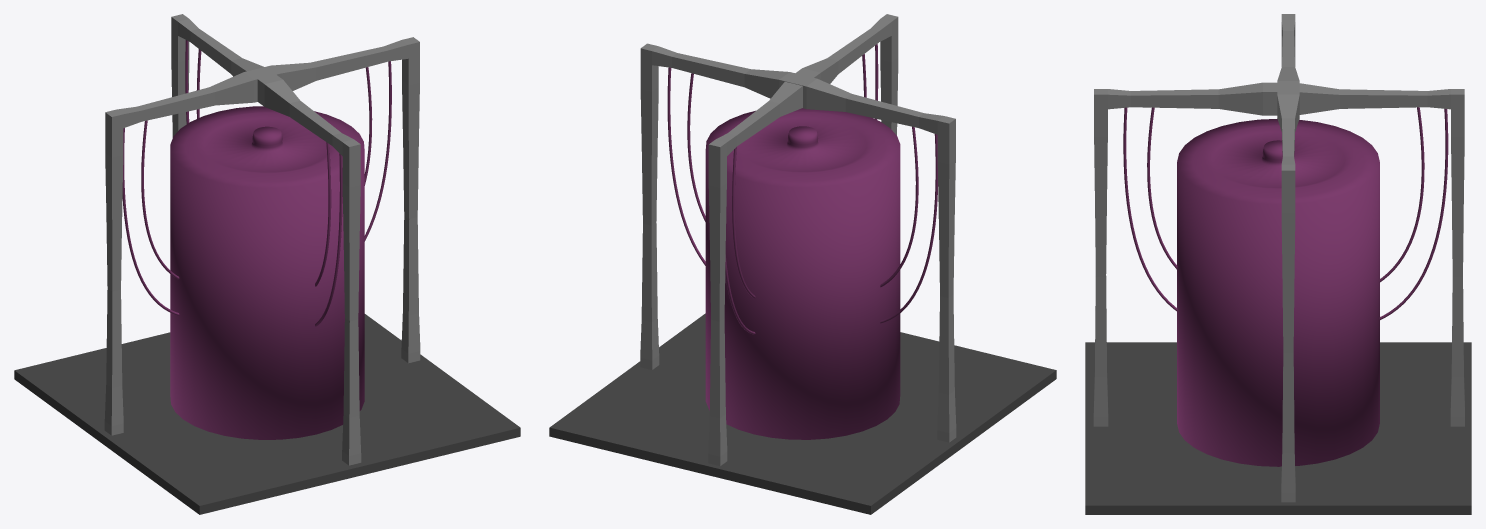
Rendered from PowerStorageLevel1.fbx.
The picture shows the model from 3 angles, left to right: view 1: azimuth 30°, elevation 25°; view 2: azimuth 150°, elevation 25°; view 3: azimuth 270°, elevation 25°; orthographic projection. The views are drawn at different scales.
Visible parts, largest first — view 1: Cylinder, Cube.001, Cube, NurbsPath.002, NurbsPath.005, NurbsPath.006, NurbsPath.007; view 2: Cylinder, Cube.001, Cube, NurbsPath.005, NurbsPath.006, NurbsPath.007; view 3: Cylinder, Cube.001, Cube, NurbsPath.001, NurbsPath.002, NurbsPath, NurbsPath.003.
Part boxes in pixels (left/top/right/bottom): Cylinder: left=170, top=106, right=364, bottom=439; Cube.001: left=14, top=314, right=520, bottom=514; Cube: left=104, top=14, right=420, bottom=465; NurbsPath.002: left=315, top=153, right=342, bottom=326; NurbsPath.005: left=364, top=61, right=391, bottom=241; NurbsPath.006: left=122, top=128, right=179, bottom=315; NurbsPath.007: left=141, top=120, right=179, bottom=279; Cylinder: left=705, top=108, right=900, bottom=439; Cube.001: left=549, top=313, right=1056, bottom=514; Cube: left=640, top=14, right=956, bottom=466; NurbsPath.005: left=667, top=67, right=705, bottom=265; NurbsPath.006: left=880, top=134, right=938, bottom=323; NurbsPath.007: left=880, top=126, right=918, bottom=287; Cylinder: left=1177, top=119, right=1379, bottom=466; Cube.001: left=1085, top=342, right=1471, bottom=514; Cube: left=1093, top=14, right=1464, bottom=502; NurbsPath.001: left=1379, top=108, right=1448, bottom=319; NurbsPath.002: left=1123, top=107, right=1177, bottom=311; NurbsPath: left=1379, top=107, right=1424, bottom=282; NurbsPath.003: left=1147, top=107, right=1177, bottom=269.
Size of the model in its own units: 2.04 by 2.01 by 2.04.
